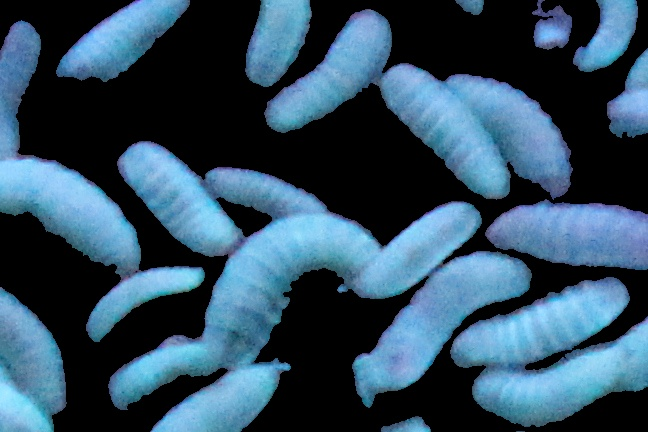larvae: (349, 252, 534, 398), (203, 214, 385, 360), (372, 51, 506, 199), (1, 151, 142, 267), (451, 279, 633, 366), (266, 11, 392, 132), (446, 77, 569, 193), (119, 142, 237, 256), (358, 199, 483, 296), (475, 352, 648, 422), (487, 200, 648, 272), (56, 1, 192, 80), (148, 360, 291, 432), (1, 278, 67, 414), (88, 262, 206, 337), (105, 341, 212, 409), (207, 165, 332, 221), (1, 15, 44, 160), (242, 1, 310, 85), (573, 1, 637, 69)
